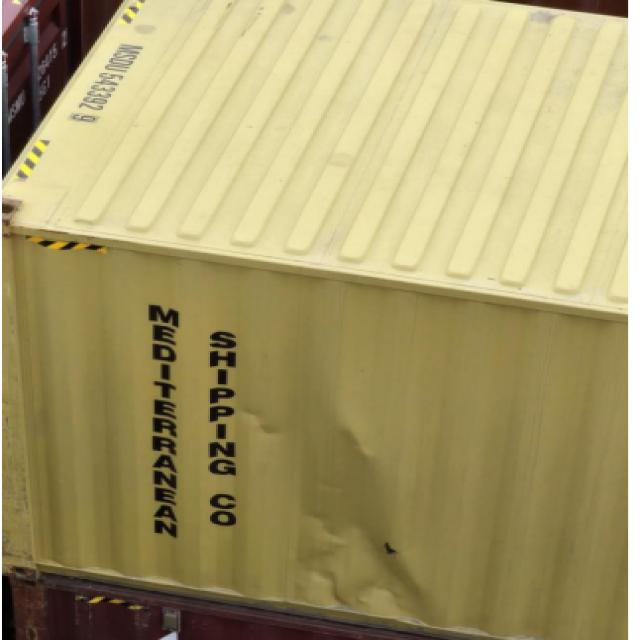dent: (218, 367, 483, 638)
